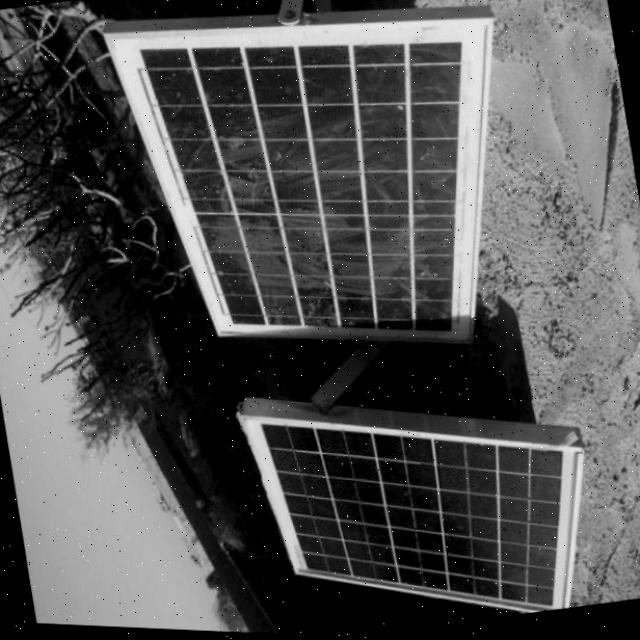Normal Solar Panel: (247, 365, 611, 640)
